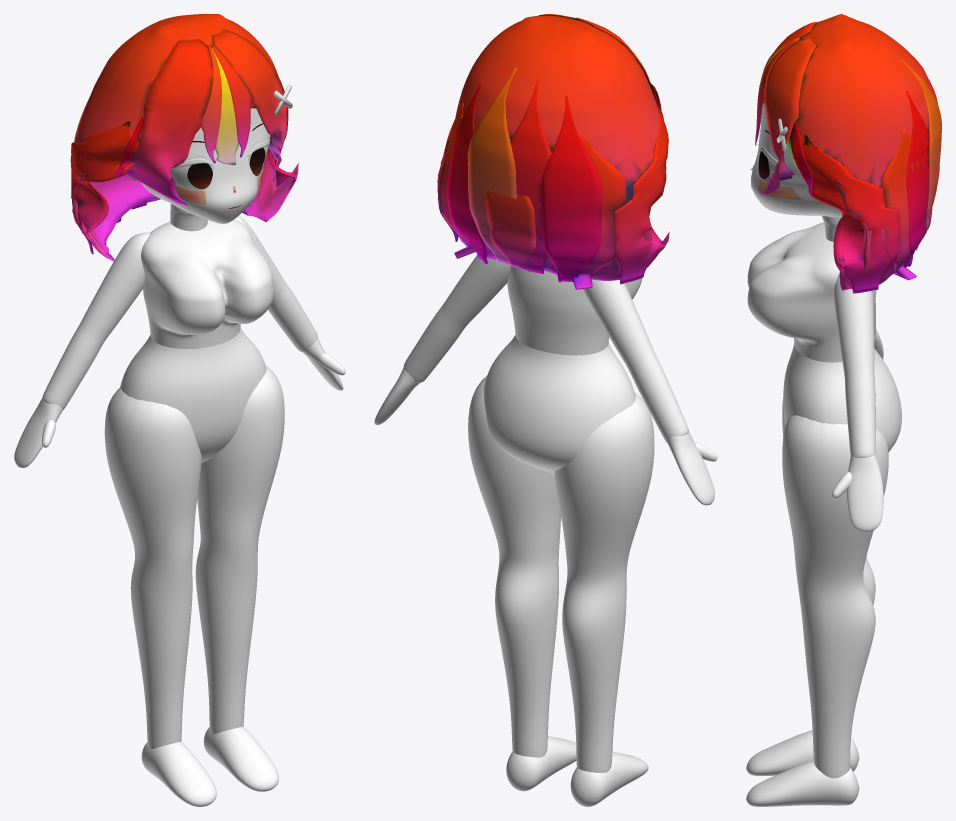
The model's file is MG_ToonTest_01_v6a_eye.fbx.
3 renders of one model, left to right at view 1: azimuth 30°, elevation 25°; view 2: azimuth 150°, elevation 25°; view 3: azimuth 270°, elevation 25°, orthographic. The views are drawn at different scales.
Visible parts, largest first — view 1: Blockout_Leg.R, Blockout_Leg.L, hair_bob_01__Bangs, Blockout_Torso, hair_bob_01__Volume, Blockout_Pelvis, Blockout_Arm.R, Blockout_Head, hair_bob_01__Side_R, Blockout_Foot.R, Blockout_Foot.L, Blockout_Arm.L (+3 smaller); view 2: Blockout_Leg.R, hair_bob_01__Back, hair_bob_01__Volume, Blockout_Leg.L, Blockout_Pelvis, hair_bob_01__Side_R, Blockout_Torso, Blockout_Arm.R, Blockout_Arm.L, Blockout_Foot.R, Blockout_Foot.L, Blockout_Hand.R (+2 smaller); view 3: Blockout_Leg.L, hair_bob_01__Volume, hair_bob_01__Side_L, Blockout_Torso, Blockout_Pelvis, Blockout_Arm.L, hair_bob_01__Bangs, hair_bob_01__Back, Blockout_Foot.L, Blockout_Hand.L, Blockout_Head, Blockout_Foot.R (+3 smaller).
Boxes of the visible parts, x1,y1,x2,y2 form: Blockout_Leg.R: (104,388,201,749); Blockout_Leg.L: (195,365,284,734); hair_bob_01__Bangs: (125,29,288,205); Blockout_Torso: (141,219,273,348); hair_bob_01__Volume: (72,14,298,261); Blockout_Pelvis: (120,328,266,462); Blockout_Arm.R: (42,232,150,409); Blockout_Head: (141,108,270,223); hair_bob_01__Side_R: (70,81,139,254); Blockout_Foot.R: (141,742,216,806); Blockout_Foot.L: (203,726,278,791); Blockout_Arm.L: (235,216,317,352); Blockout_Leg.R: (554,392,654,772); hair_bob_01__Back: (447,67,602,282); hair_bob_01__Volume: (437,15,669,280); Blockout_Leg.L: (468,376,560,757); Blockout_Pelvis: (484,334,635,474); hair_bob_01__Side_R: (571,102,668,289); Blockout_Torso: (507,265,642,355); Blockout_Arm.R: (582,279,688,442); Blockout_Arm.L: (403,255,510,382); Blockout_Foot.R: (570,751,648,806); Blockout_Foot.L: (506,736,576,791); Blockout_Hand.R: (667,431,717,505); Blockout_Leg.L: (782,415,888,778); hair_bob_01__Volume: (763,14,935,290); hair_bob_01__Side_L: (792,128,928,293); Blockout_Torso: (747,222,876,362); Blockout_Pelvis: (783,343,901,452); Blockout_Arm.L: (833,272,875,457); hair_bob_01__Bangs: (755,21,817,195); hair_bob_01__Back: (900,51,941,267); Blockout_Foot.L: (746,760,859,806); Blockout_Hand.L: (832,454,883,532); Blockout_Head: (751,103,842,217); Blockout_Foot.R: (746,730,859,775).
Size of the model in its own units: 74.75 by 165 by 38.63.
